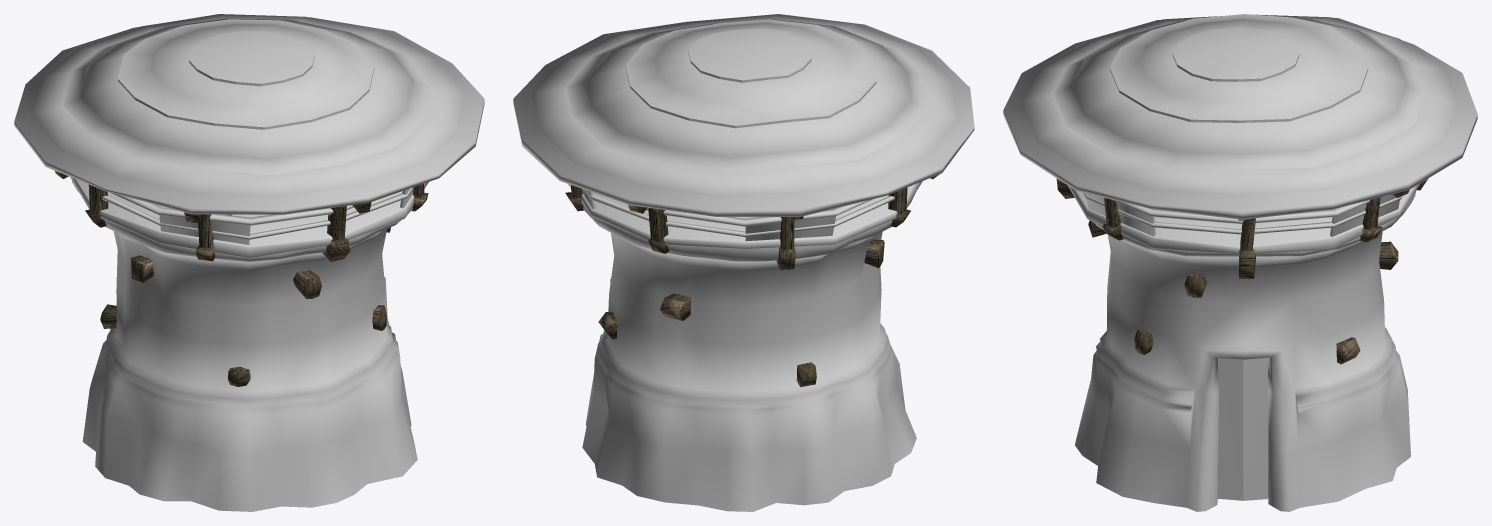
The model's file is RoundTower_High 2.FBX.
3 renders of one model, left to right at view 1: azimuth 30°, elevation 25°; view 2: azimuth 150°, elevation 25°; view 3: azimuth 270°, elevation 25°, orthographic.
Visible parts, largest first — view 1: Tower_Roof002, TowerR_Walls002, ToerR_Balki002; view 2: Tower_Roof002, TowerR_Walls002, ToerR_Balki002; view 3: Tower_Roof002, TowerR_Walls002, ToerR_Balki002.
Part boxes in pixels (box(x1,y1,x2,y2)): Tower_Roof002: box(14, 14, 484, 258); TowerR_Walls002: box(72, 181, 417, 511); ToerR_Balki002: box(55, 171, 428, 386); Tower_Roof002: box(513, 14, 974, 249); TowerR_Walls002: box(582, 193, 916, 511); ToerR_Balki002: box(565, 174, 939, 387); Tower_Roof002: box(1003, 14, 1477, 500); TowerR_Walls002: box(1075, 191, 1415, 511); ToerR_Balki002: box(1056, 178, 1428, 364).
Bounding box in the file's own units: 15.19 × 14.31 × 15.4.
